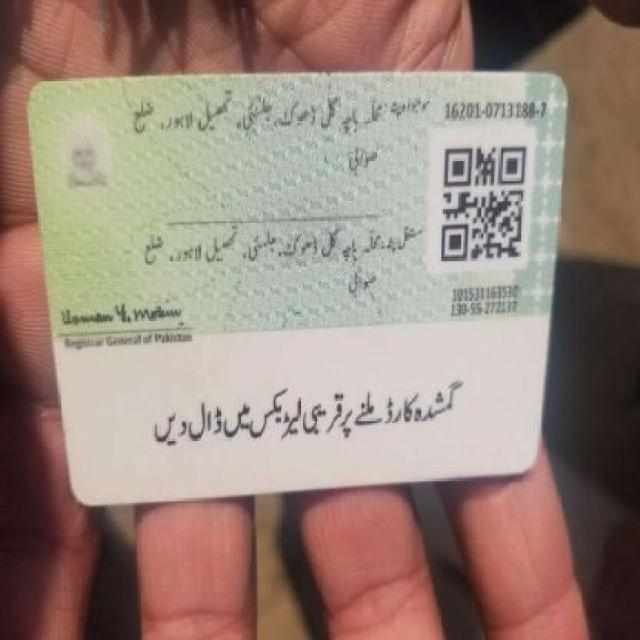Back: (22, 66, 566, 483)
